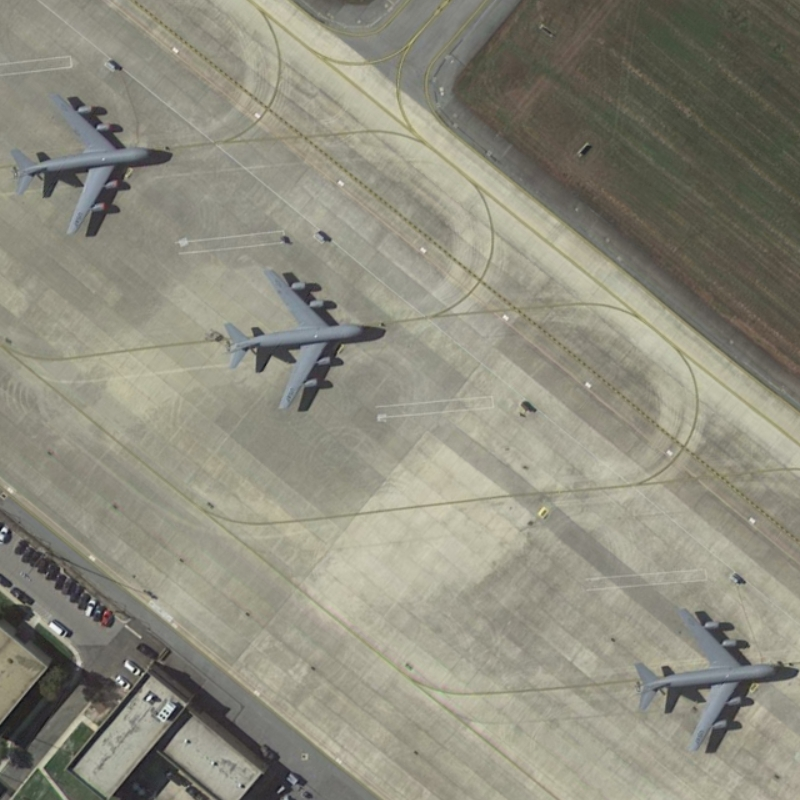A14: (629, 604, 787, 755), (216, 267, 371, 416), (7, 90, 155, 241)
